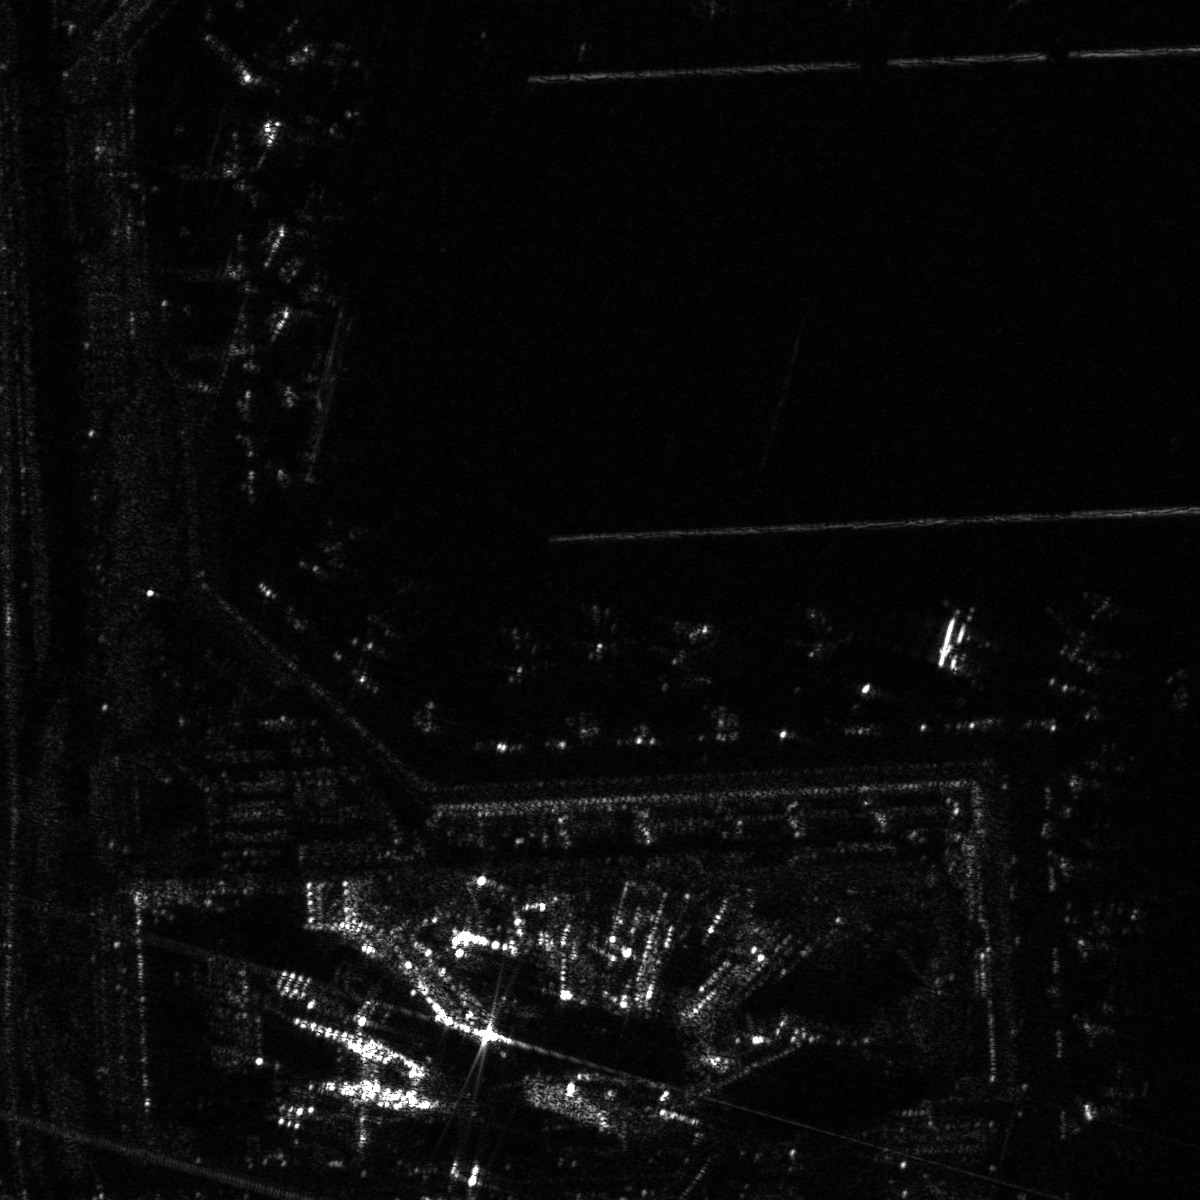A220: (279, 518, 400, 584), (1073, 1062, 1154, 1154), (1077, 969, 1154, 1056), (554, 600, 649, 668), (1073, 890, 1151, 971)
A320/321: (254, 171, 370, 268), (1034, 584, 1138, 690)
Boeing737: (467, 626, 573, 690)
Boeing787: (907, 599, 992, 691), (774, 597, 868, 660)
other: (635, 613, 723, 704)
